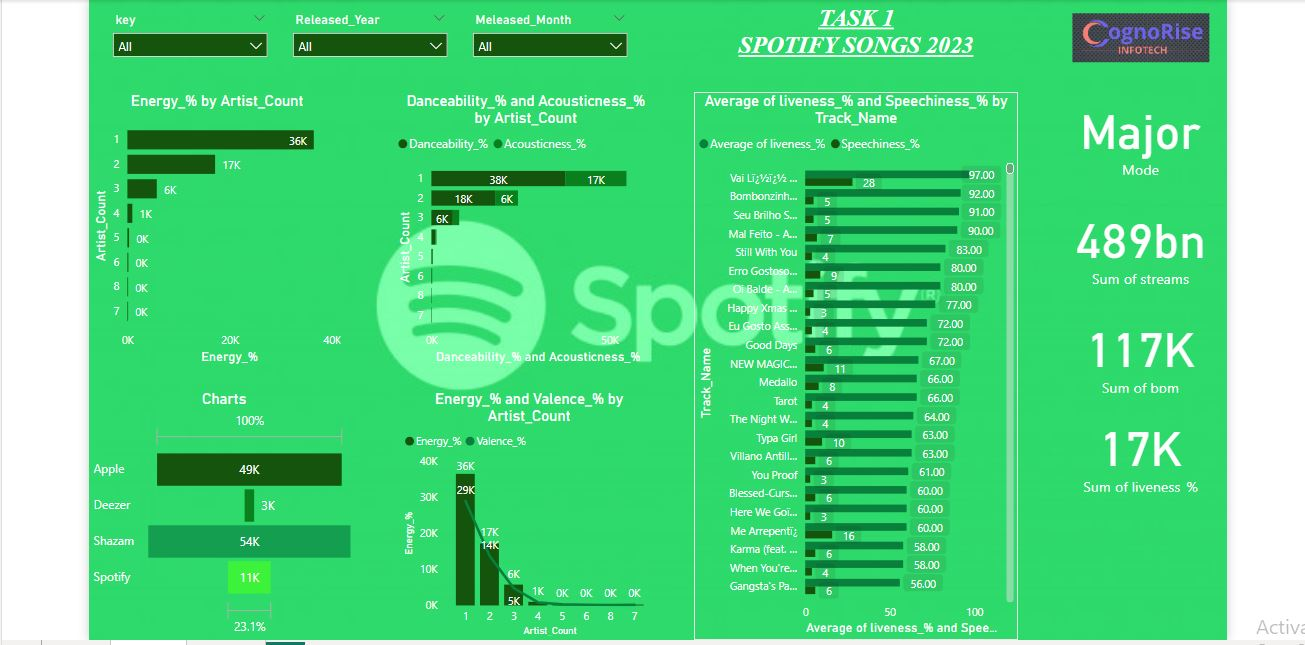

What the dashboard file says about the page in this screenshot:
{"tool":"powerbi","page":{"name":"Task 1","canvas":[1280,720],"ordinal":2},"visuals":[{"type":"slicer","fields":{"Values":["spotify-2023.key"]},"box":[68.6,0,193.7,67.2],"z":0,"group":"g2"},{"type":"barChart","fields":{"Category":["spotify-2023.artist_count"],"Y":["Sum(spotify-2023.danceability_%)","Sum(spotify-2023.acousticness_%)"]},"box":[341.8,103.7,298.5,311],"z":0},{"type":"card","fields":{"Values":["Sum(spotify-2023.streams)"]},"box":[1085.6,222.7,194.6,103.5],"z":0,"group":"g1"},{"type":"slicer","fields":{"Values":["spotify-2023.released_year"]},"box":[271.2,0,193.5,67.5],"z":1000,"group":"g2"},{"type":"clusteredBarChart","fields":{"Category":["spotify-2023.track_name"],"Y":["Avg(spotify-2023.liveness_%)","Sum(spotify-2023.speechiness_%)"]},"box":[680.1,103.7,364.6,616.3],"z":1000},{"type":"card","fields":{"Values":["Sum(spotify-2023.bpm)"]},"box":[1085.6,348.7,194.6,97.9],"z":1000,"group":"g1"},{"type":"slicer","fields":{"Values":["spotify-2023.released_month"]},"box":[473.6,0,193.5,67.5],"z":2000,"group":"g2"},{"type":"lineStackedColumnComboChart","fields":{"Category":["spotify-2023.artist_count"],"Y":["Sum(spotify-2023.energy_%)"],"Y2":["Sum(spotify-2023.valence_%)"]},"box":[349.7,438.6,290.5,281.4],"z":2000},{"type":"card","fields":{"Values":["Sum(spotify-2023.liveness_%)"]},"box":[1085.6,460.1,194.6,97.9],"z":2000,"group":"g1"},{"type":"image","box":[1101.4,9,164.2,67.5],"z":3000},{"type":"card","fields":{"Values":["Min(spotify-2023.mode)"]},"box":[1085.6,103.5,194.6,97.9],"z":3000,"group":"g1"},{"type":"funnel","title":"Charts","fields":{"Y":["Sum(spotify-2023.in_apple_charts)","Sum(spotify-2023.in_deezer_charts)","Sum(spotify-2023.in_shazam_charts)","Sum(spotify-2023.in_spotify_charts)"]},"box":[0,438.6,304.2,281.4],"z":4000},{"type":"barChart","fields":{"Category":["spotify-2023.artist_count"],"Y":["Sum(spotify-2023.energy_%)"]},"box":[0,103.7,288.2,311],"z":5000},{"type":"textbox","box":[640.1,0,453.4,90],"z":6000},{"type":"group","id":"g1","title":"Group 1","box":[1085.6,103.5,194.6,454.5],"z":7000},{"type":"group","id":"g2","title":"Group 2","box":[68.6,0,598.5,67.5],"z":8000},{"type":"actionButton","box":[0,0,50.6,45],"z":9000}]}

Visuals, with their boxes on the page's 1280x720 design canvas (x1, y1, x2, y2). These are canvas units, not pixel positions in the 1305x645 screenshot, which may show the page scaled, cropped or inside an application window:
slicer - spotify-2023.key: l=69, t=0, r=262, b=67
barChart - spotify-2023.artist_count x Sum(spotify-2023.danceability_%): l=342, t=104, r=640, b=415
card - Sum(spotify-2023.streams): l=1086, t=223, r=1280, b=326
slicer - spotify-2023.released_year: l=271, t=0, r=465, b=68
clusteredBarChart - spotify-2023.track_name x Avg(spotify-2023.liveness_%): l=680, t=104, r=1045, b=720
card - Sum(spotify-2023.bpm): l=1086, t=349, r=1280, b=447
slicer - spotify-2023.released_month: l=474, t=0, r=667, b=68
lineStackedColumnComboChart - spotify-2023.artist_count x Sum(spotify-2023.energy_%): l=350, t=439, r=640, b=720
card - Sum(spotify-2023.liveness_%): l=1086, t=460, r=1280, b=558
image: l=1101, t=9, r=1266, b=76
card - Min(spotify-2023.mode): l=1086, t=104, r=1280, b=201
"Charts" funnel: l=0, t=439, r=304, b=720
barChart - spotify-2023.artist_count x Sum(spotify-2023.energy_%): l=0, t=104, r=288, b=415
textbox: l=640, t=0, r=1094, b=90
"Group 1" group: l=1086, t=104, r=1280, b=558
"Group 2" group: l=69, t=0, r=667, b=68
actionButton: l=0, t=0, r=51, b=45
